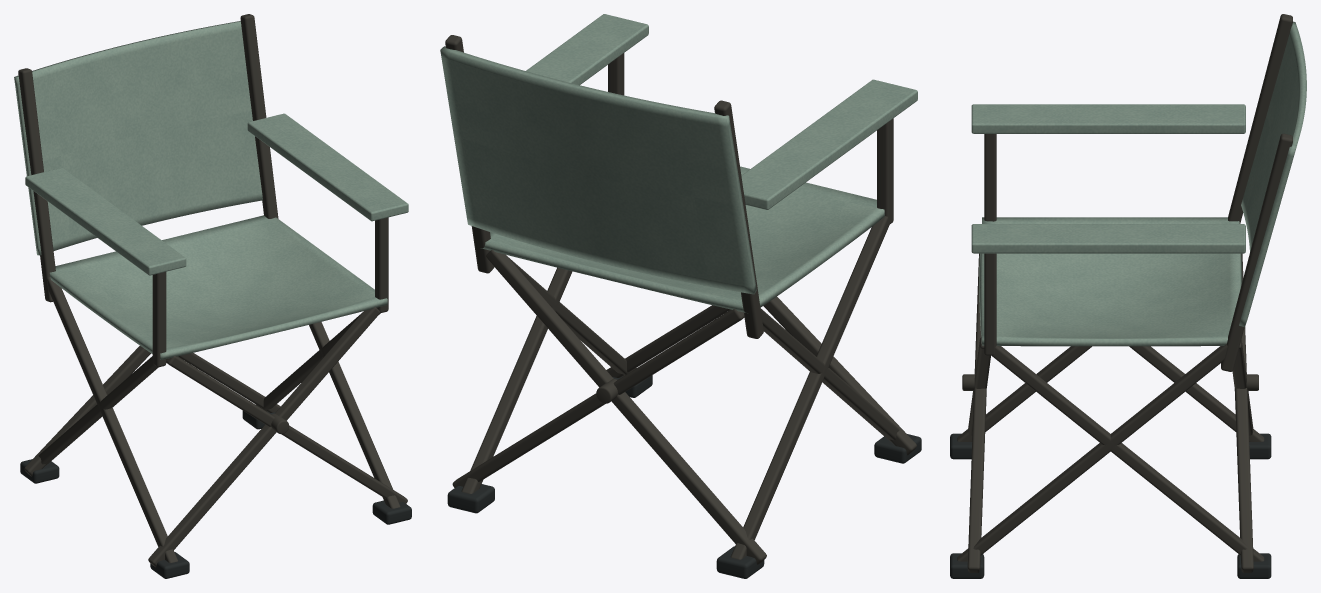
File: camp_chair.glb
The picture shows the model from 3 angles, left to right: view 1: azimuth 30°, elevation 25°; view 2: azimuth 150°, elevation 25°; view 3: azimuth 270°, elevation 25°; orthographic projection. The views are drawn at different scales.
Visible parts, largest first — view 1: Canvas | tall camping back, Canvas | tensioned camping seat, Canvas | soft arm strap.001, Canvas | soft arm strap, Frame | transverse folding scissor, Frame | longitudinal folding scissor, Frame | transverse folding scissor.001, Frame | rear back upright, Frame | rear back upright.001, Frame | longitudinal folding scissor.002, Frame | longitudinal folding scissor.001, Frame | transverse folding scissor.002 (+7 smaller); view 2: Canvas | tall camping back, Canvas | tensioned camping seat, Canvas | soft arm strap, Frame | transverse folding scissor.002, Frame | longitudinal folding scissor.001, Frame | transverse folding scissor.003, Canvas | soft arm strap.001, Frame | longitudinal folding scissor.003, Frame | longitudinal folding scissor, Frame | transverse folding scissor, Frame | longitudinal folding scissor.002, Frame | transverse folding scissor.001 (+7 smaller); view 3: Canvas | tensioned camping seat, Canvas | soft arm strap, Canvas | soft arm strap.001, Canvas | tall camping back, Frame | longitudinal folding scissor.002, Frame | longitudinal folding scissor.003, Frame | transverse folding scissor.001, Frame | rear back upright.001, Frame | rear back upright, Frame | transverse folding scissor.003, Frame | longitudinal folding scissor, Frame | longitudinal folding scissor.001 (+8 smaller).
Boxes of the visible parts, box(x1,y1,x2,y2) form: Canvas | tall camping back: box(14, 21, 262, 255); Canvas | tensioned camping seat: box(49, 215, 387, 359); Canvas | soft arm strap.001: box(247, 113, 408, 221); Canvas | soft arm strap: box(25, 168, 186, 275); Frame | transverse folding scissor: box(148, 307, 380, 567); Frame | longitudinal folding scissor: box(47, 277, 177, 562); Frame | transverse folding scissor.001: box(166, 356, 407, 503); Frame | rear back upright: box(18, 68, 55, 302); Frame | rear back upright.001: box(240, 14, 278, 218); Frame | longitudinal folding scissor.002: box(309, 322, 400, 508); Frame | longitudinal folding scissor.001: box(38, 356, 158, 465); Frame | transverse folding scissor.002: box(24, 346, 150, 476); Canvas | tall camping back: box(440, 46, 756, 294); Canvas | tensioned camping seat: box(481, 166, 884, 313); Canvas | soft arm strap: box(741, 79, 917, 209); Frame | transverse folding scissor.002: box(486, 250, 766, 564); Frame | longitudinal folding scissor.001: box(730, 216, 889, 559); Frame | transverse folding scissor.003: box(452, 309, 744, 487); Canvas | soft arm strap.001: box(526, 14, 648, 85); Frame | longitudinal folding scissor.003: box(461, 267, 572, 493); Frame | longitudinal folding scissor: box(760, 308, 899, 441); Frame | transverse folding scissor: box(763, 296, 916, 455); Frame | longitudinal folding scissor.002: box(507, 256, 635, 376); Frame | transverse folding scissor.001: box(606, 305, 730, 377); Canvas | tensioned camping seat: box(979, 217, 1242, 346); Canvas | soft arm strap: box(971, 104, 1245, 133); Canvas | soft arm strap.001: box(971, 224, 1245, 253); Canvas | tall camping back: box(1239, 21, 1306, 327); Frame | longitudinal folding scissor.002: box(957, 344, 1227, 561); Frame | longitudinal folding scissor.003: box(991, 345, 1264, 561); Frame | transverse folding scissor.001: box(967, 253, 986, 573); Frame | rear back upright.001: box(1221, 133, 1292, 371); Frame | rear back upright: box(1228, 14, 1292, 223); Frame | transverse folding scissor.003: box(1234, 253, 1253, 573); Frame | longitudinal folding scissor: box(957, 346, 1091, 441); Frame | longitudinal folding scissor.001: box(1129, 346, 1264, 441).
Bounding box in the file's own units: 0.642 × 0.9346 × 0.6906.
Materials: 3 (1 with a texture image).
